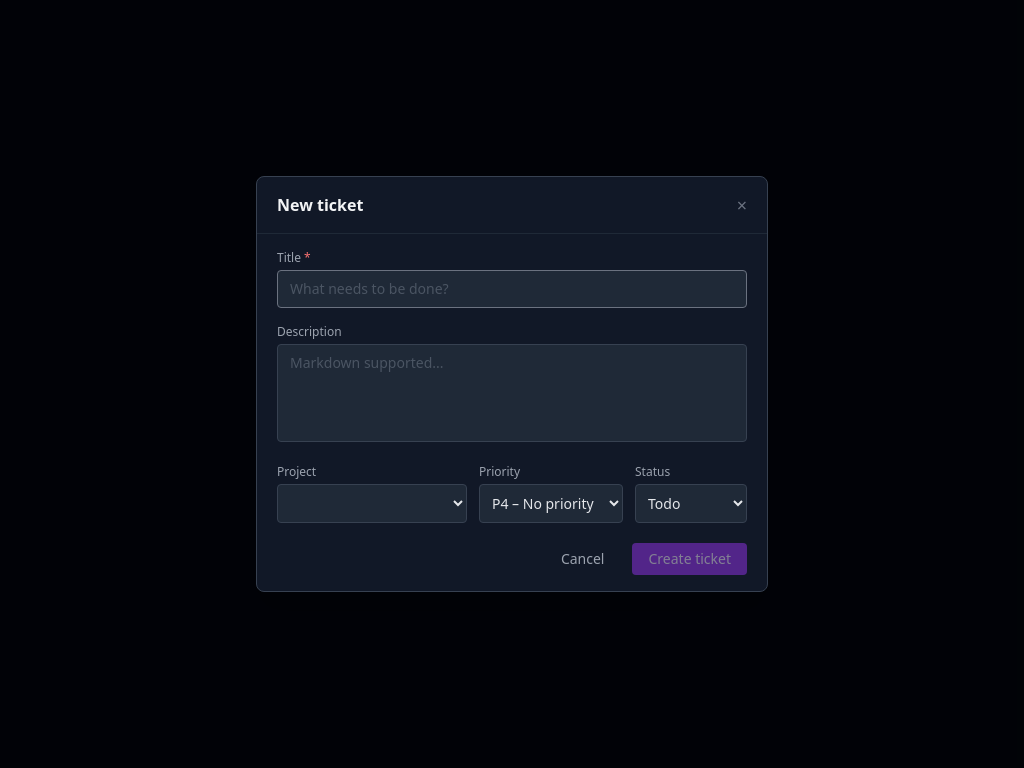
Scenario: CreateTicketModal › button shows 'Creating...' while submitting
The width and height of the screenshot is (1024, 768).
Type "My task" into the field with placeholder "What needs to be done?".
click(512, 289); type("My task")  # box [277, 270, 747, 308]
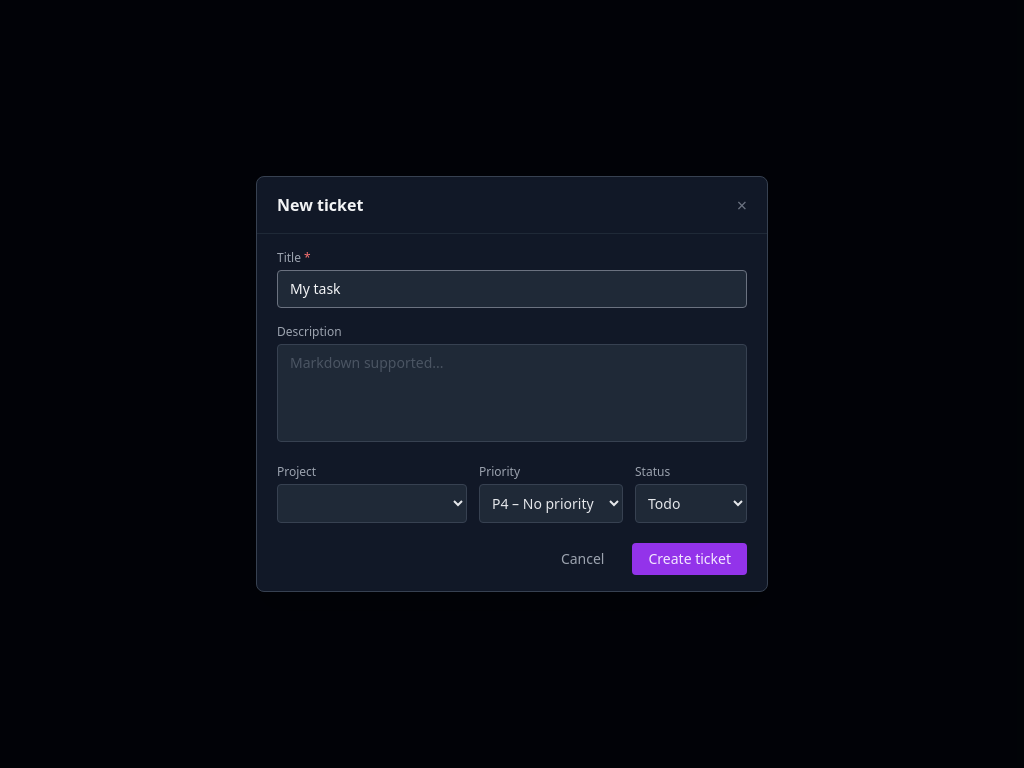
Submit the form "Create ticket", box [257, 234, 767, 591]
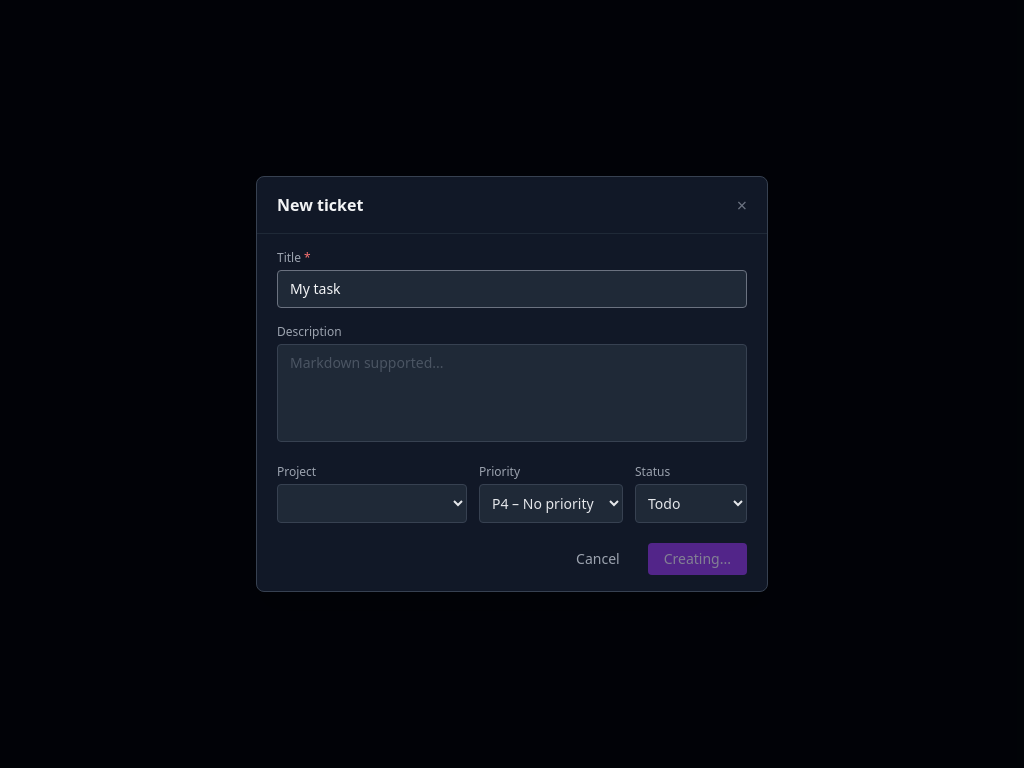
Now the button "Creating..." is shown, box [648, 543, 747, 575]
